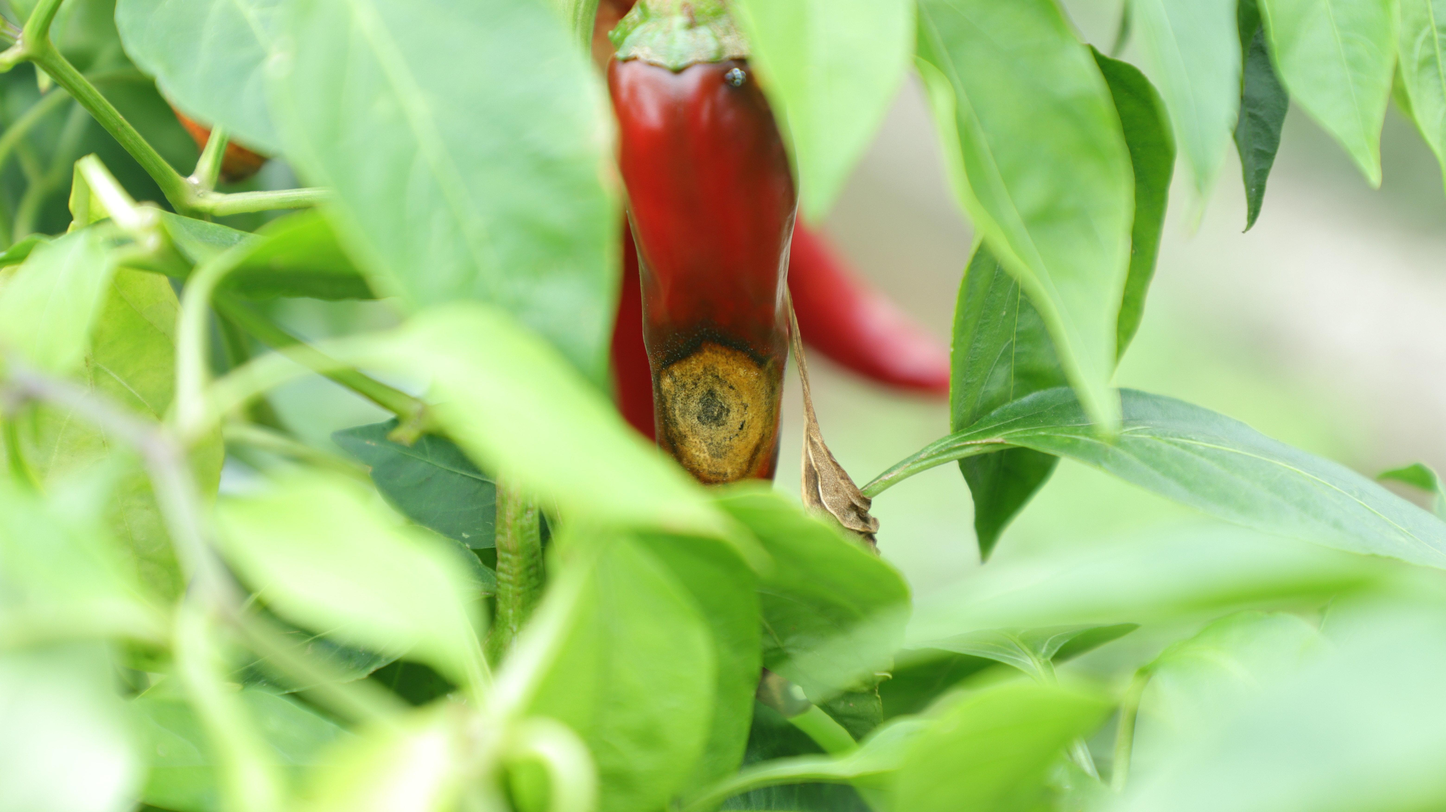Busuk Buah Antraknosa: (602, 2, 803, 495)
